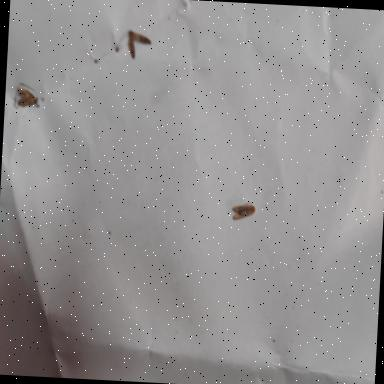pbw: (124, 28, 152, 59), (15, 84, 39, 107), (231, 201, 258, 221)
